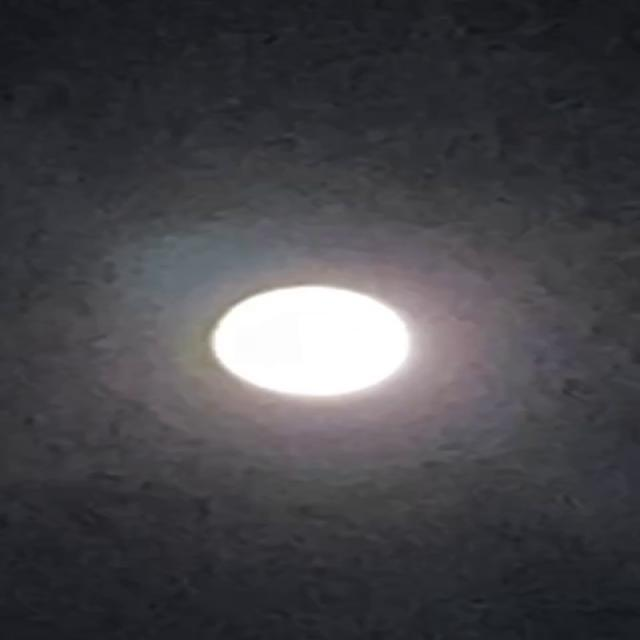moon: (198, 268, 436, 412)
